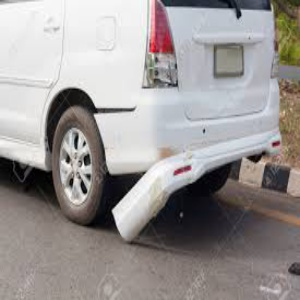bumper: (96, 96, 196, 243)
